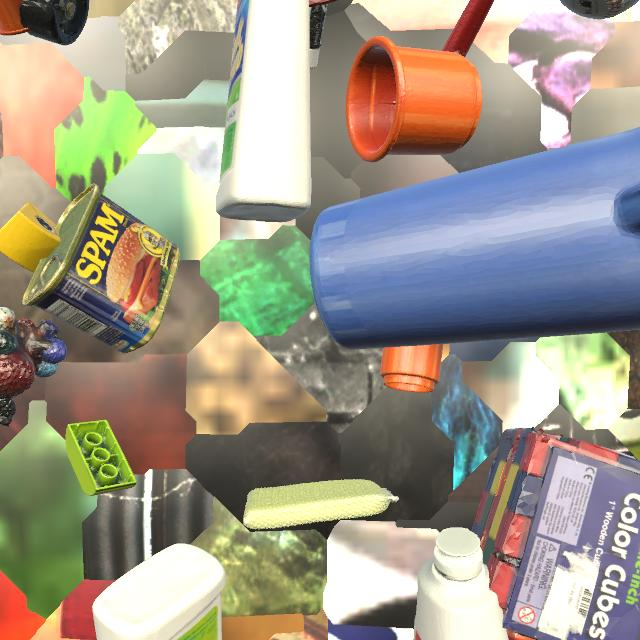ycb_010_potted_meat_can: (22, 184, 180, 353)
